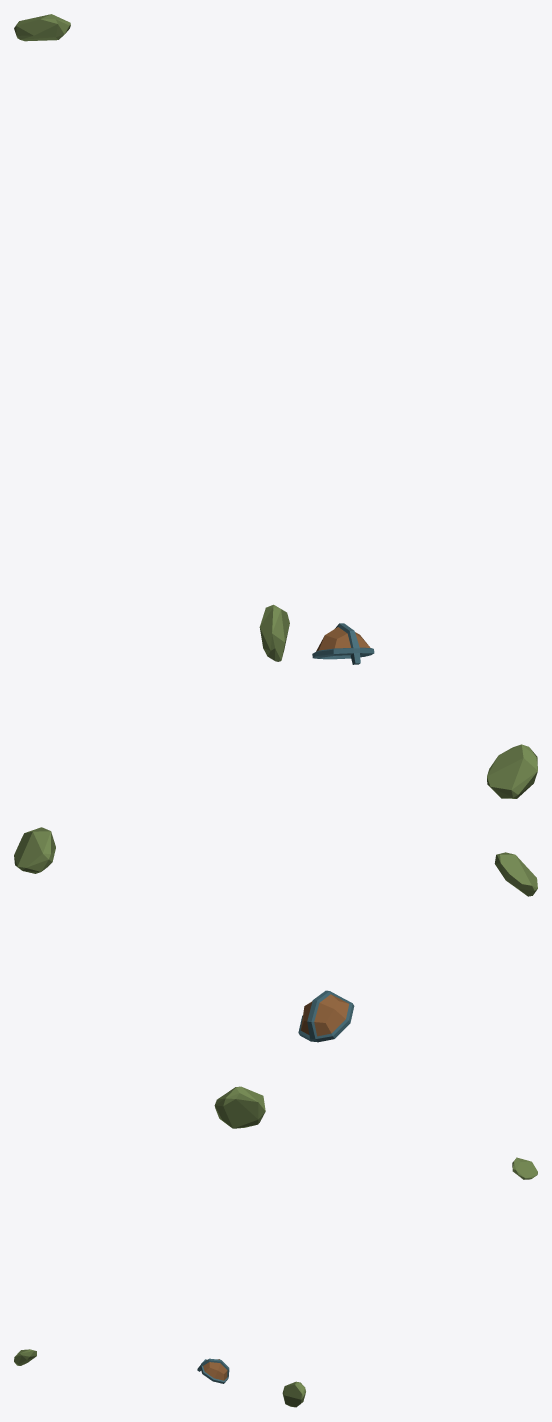
3 renders of one model, top to bottom at view 1: azimuth 30°, elevation 25°; view 2: azimuth 150°, elevation 25°; view 3: azimuth 270°, elevation 25°, orthographic. The views are drawn at different scales.
Visible parts, largest first — view 1: Box828_green3_0, Box690_green3_0, Box852_green3_0, Box866_metal_0; view 2: Box690_green3_0, Box852_green3_0, Box866_brown_0, Box828_green3_0, Box866_metal_0; view 3: Box690_green3_0, Box852_green3_0, Box866_brown_0.
Boxes of the visible parts, x1,y1,x2,y2 form: Box828_green3_0: [487, 744, 537, 798]; Box690_green3_0: [259, 604, 289, 661]; Box852_green3_0: [14, 14, 70, 41]; Box866_metal_0: [312, 623, 374, 664]; Box690_green3_0: [214, 1086, 265, 1128]; Box852_green3_0: [14, 827, 55, 873]; Box866_brown_0: [301, 994, 348, 1036]; Box828_green3_0: [494, 852, 537, 896]; Box866_metal_0: [298, 990, 354, 1042]; Box690_green3_0: [282, 1381, 305, 1407]; Box852_green3_0: [512, 1157, 537, 1179]; Box866_brown_0: [203, 1359, 227, 1380].
Size of the model in its own units: 105 by 687 by 1333.
